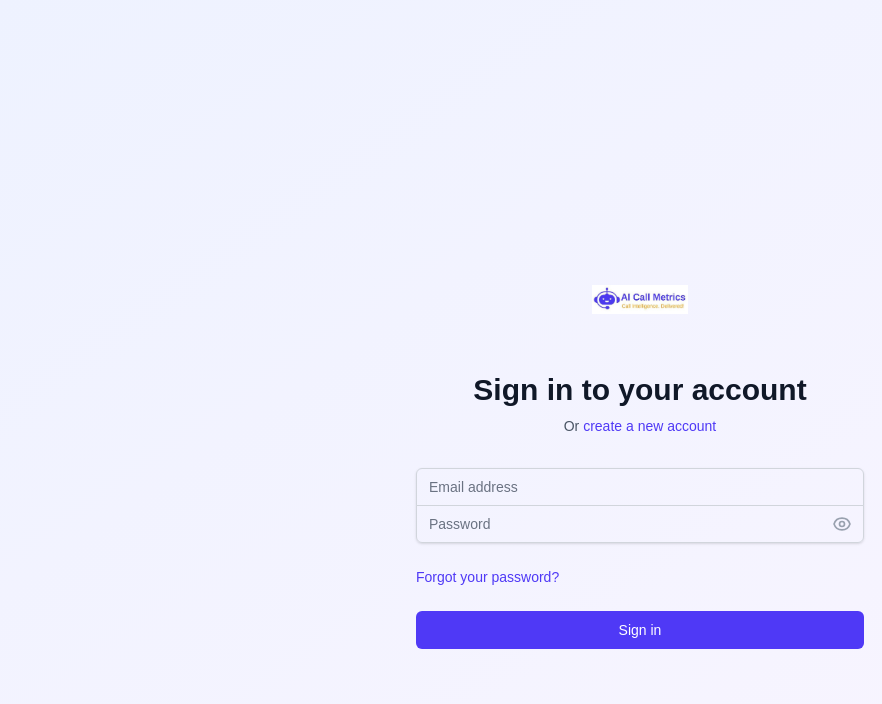
LoginForm › handles login failure with generic error
Type "test@example.com" into the field with placeholder "Email address".
click(640, 486); type("test@example.com")  # box [416,468,864,506]
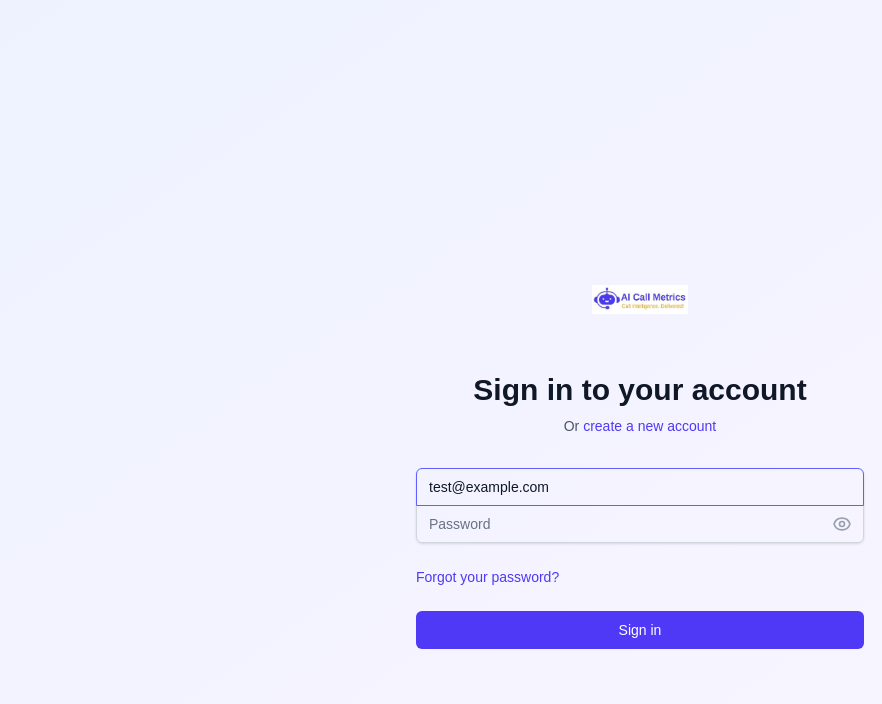
Type "wrongpassword" into the password field with placeholder "Password".
click(640, 524); type("wrongpassword")  # box [416,504,864,542]
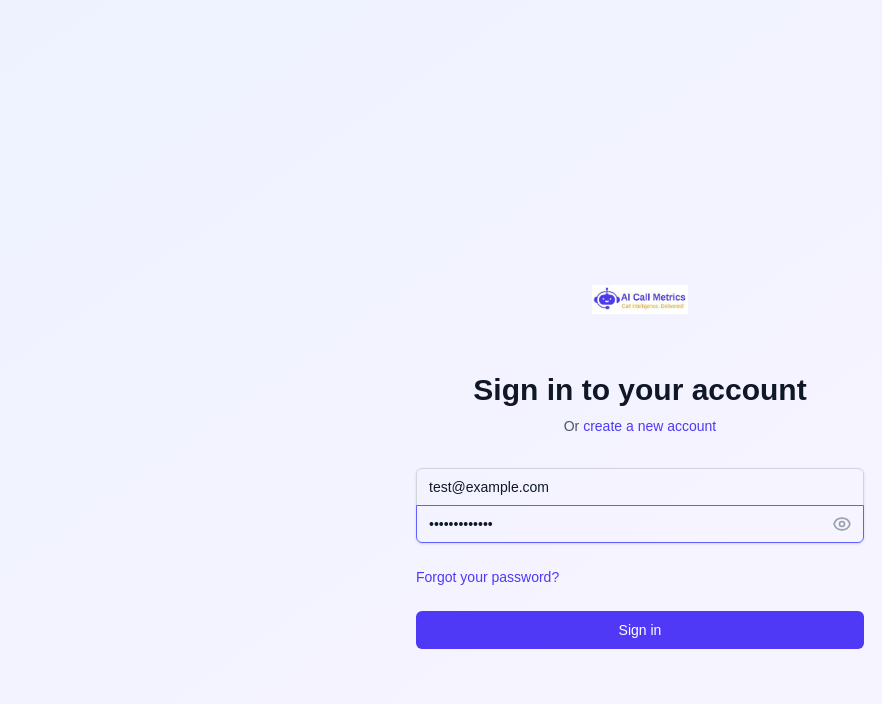
Click the button "Sign in".
click(640, 630)  # box [416,610,864,648]
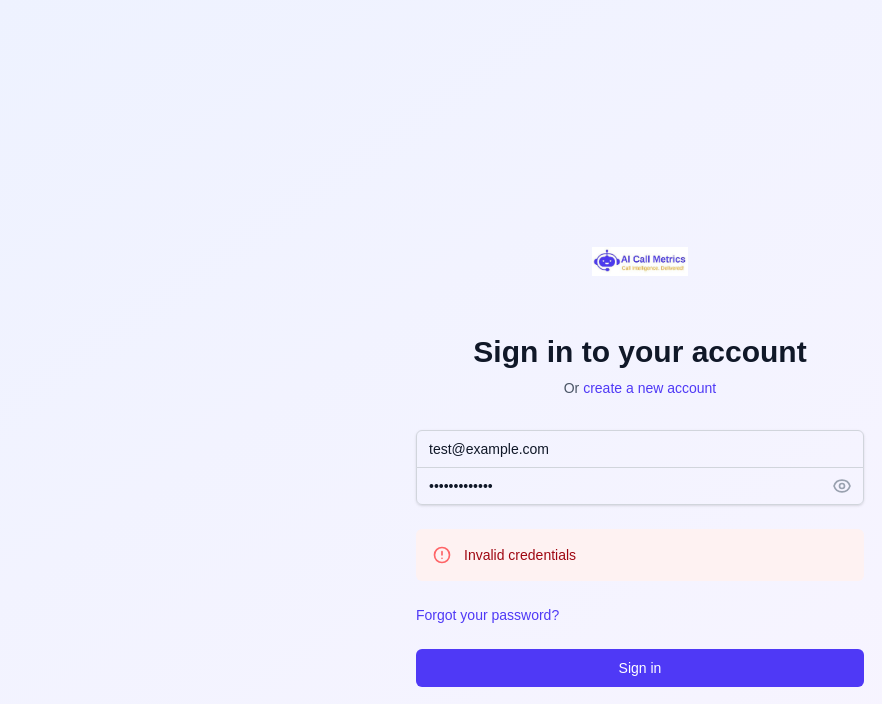
expect the text "Invalid credentials" is shown: met, box [464,544,576,564]
